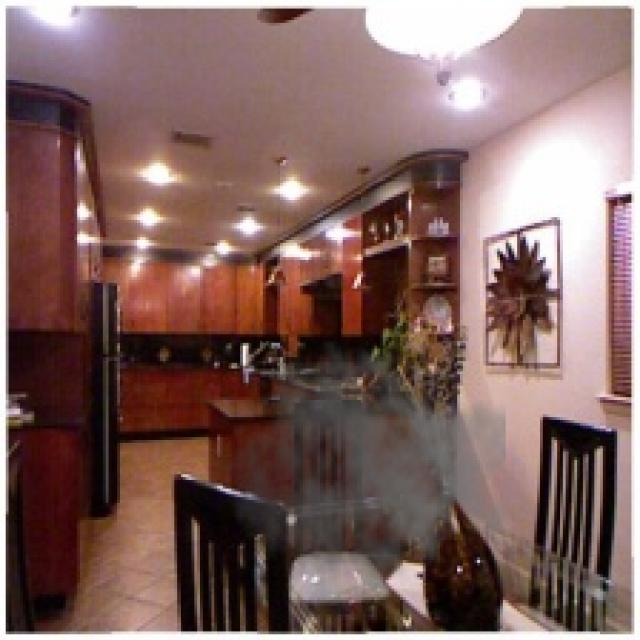smoke: (228, 337, 506, 609)
